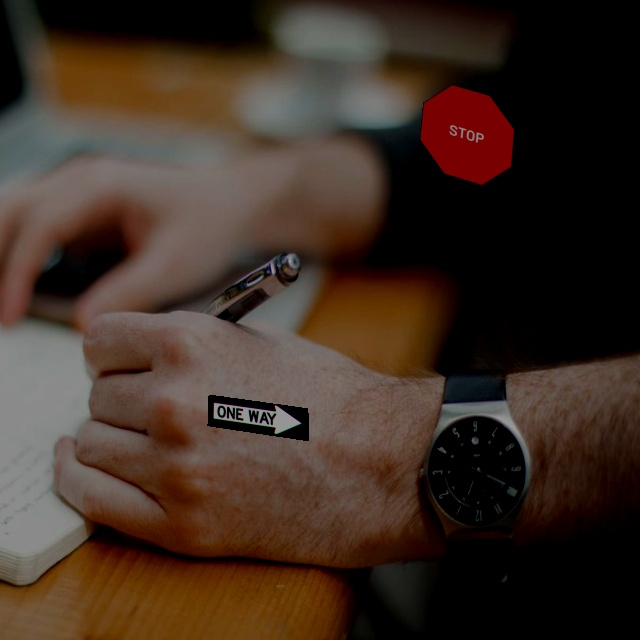ONE_WAY_ right: (207, 394, 309, 441)
STOP: (419, 84, 515, 186)
